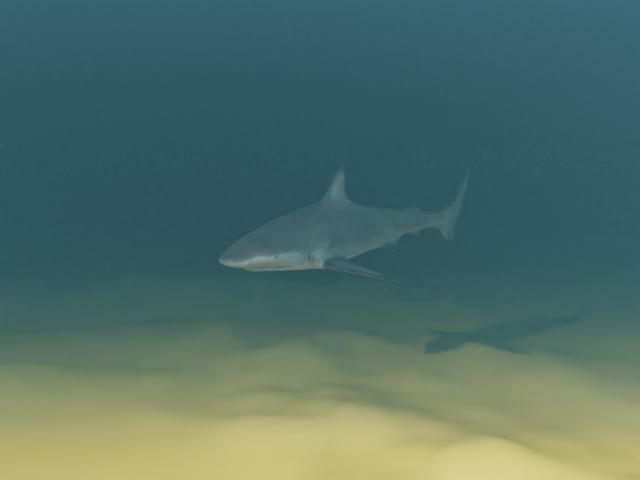Carribean Shark.001: (219, 164, 470, 282)
